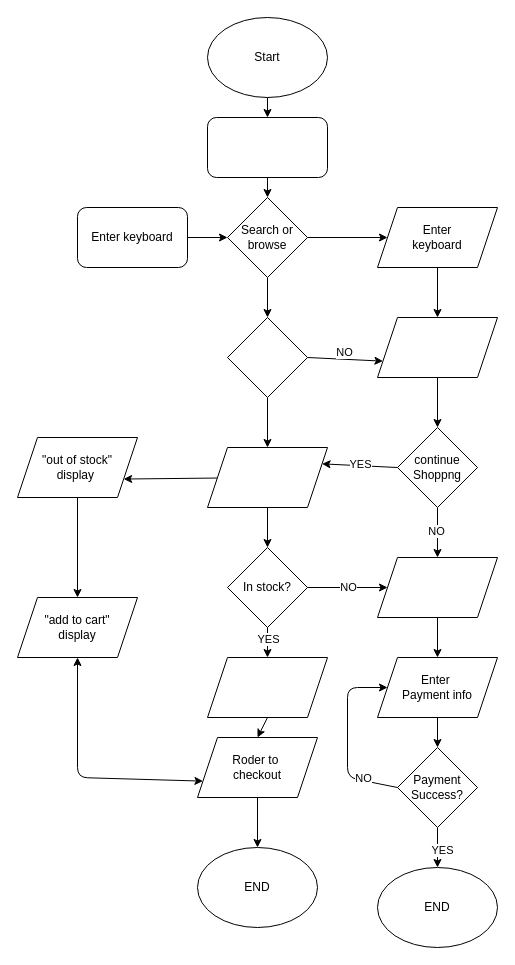
This 515x965 diagram has some shape labels left out. Each missing label, with the centre of its shape:
"continue Shopping" belongs at pixel 267 477.
"enter website" belongs at pixel 267 147.
"Open product page" belongs at pixel 437 347.
"Proceed to checkout?" belongs at pixel 267 687.
"View cart" belongs at pixel 437 587.
"view product" belongs at pixel 267 357.
